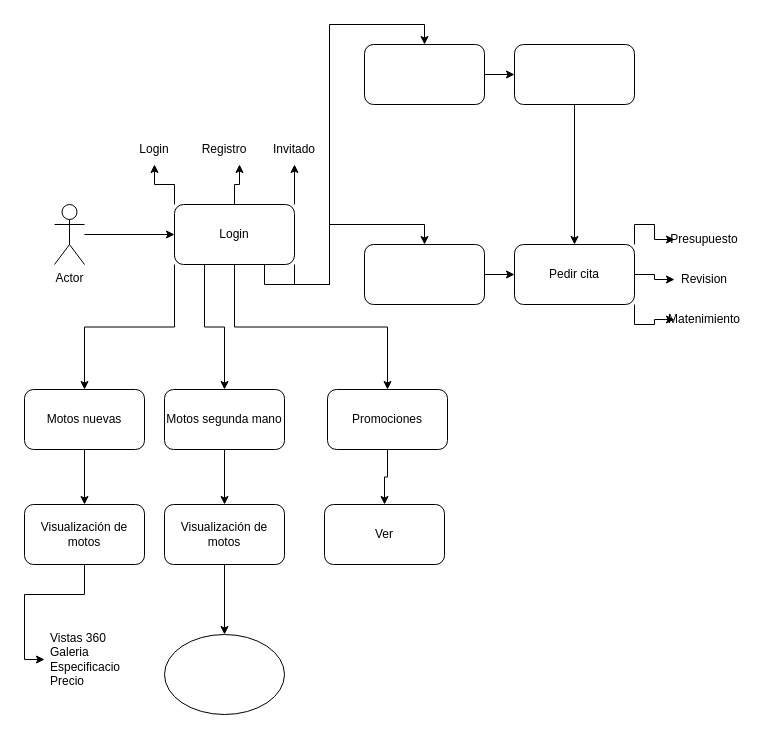
The diagram is 758 pixels wide and 732 high, and some of its shapes have lost their labels. Here are the shapes that lost their labels. From the top down, the centre of each, then its label:
[424,74]: Perfil
[574,74]: Rellenar datos/vehiculo
[424,274]: Taller
[224,674]: Pedir reserva
